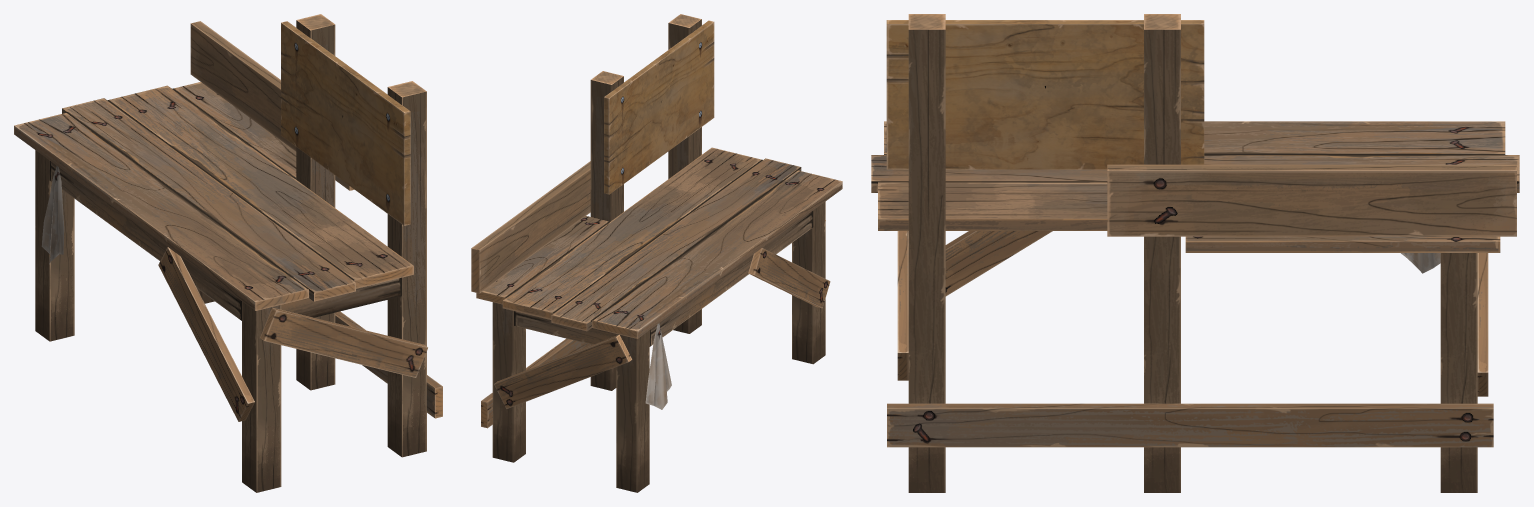
The model's file is workbench01.fbx.
The picture shows the model from 3 angles, left to right: view 1: azimuth 30°, elevation 25°; view 2: azimuth 150°, elevation 25°; view 3: azimuth 270°, elevation 25°; orthographic projection. The views are drawn at different scales.
Visible parts, largest first — view 1: workbench01; view 2: workbench01; view 3: workbench01.
Boxes of the visible parts, x1,y1,x2,y2 form: workbench01: (14, 14, 442, 492); workbench01: (471, 14, 842, 492); workbench01: (871, 14, 1519, 492).
Bounding box in the file's own units: 90 × 162 × 205.
